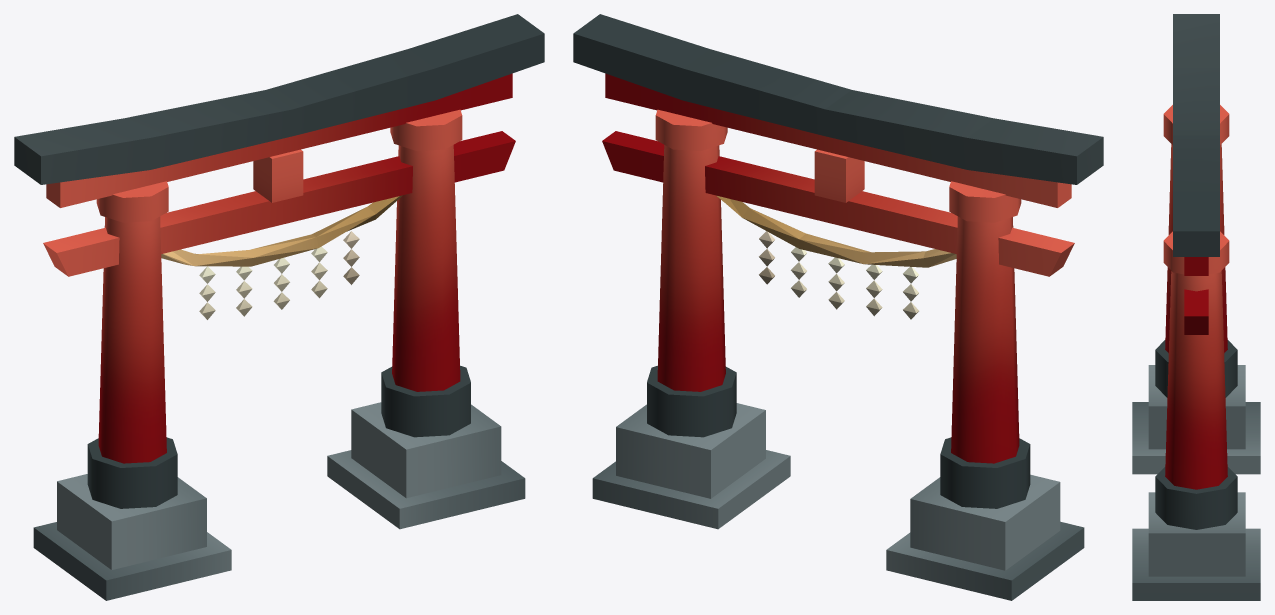
Rendered from ToriGate.gltf.
3 views of the same model, side by side, from view 1: azimuth 30°, elevation 25°; view 2: azimuth 150°, elevation 25°; view 3: azimuth 270°, elevation 25° (orthographic). The views are drawn at different scales.
Visible parts, largest first — view 1: ToriGate_Beams, ToriGate_Pillars, ToriGate_Base, ToriGate_Shide; view 2: ToriGate_Beams, ToriGate_Pillars, ToriGate_Base, ToriGate_Shide; view 3: ToriGate_Pillars, ToriGate_Base, ToriGate_Beams.
Boxes of the visible parts, x1,y1,x2,y2 form: ToriGate_Beams: [14, 14, 544, 276]; ToriGate_Pillars: [87, 109, 470, 508]; ToriGate_Base: [33, 402, 525, 600]; ToriGate_Shide: [161, 195, 402, 319]; ToriGate_Beams: [573, 14, 1103, 276]; ToriGate_Pillars: [647, 109, 1030, 508]; ToriGate_Base: [592, 403, 1084, 600]; ToriGate_Shide: [716, 195, 956, 319]; ToriGate_Pillars: [1155, 105, 1237, 529]; ToriGate_Base: [1132, 365, 1260, 600]; ToriGate_Beams: [1173, 14, 1219, 334].
Bounding box in the file's own units: 5.15 × 4.28 × 1.28.
Materials: 1 (1 with a texture image).
